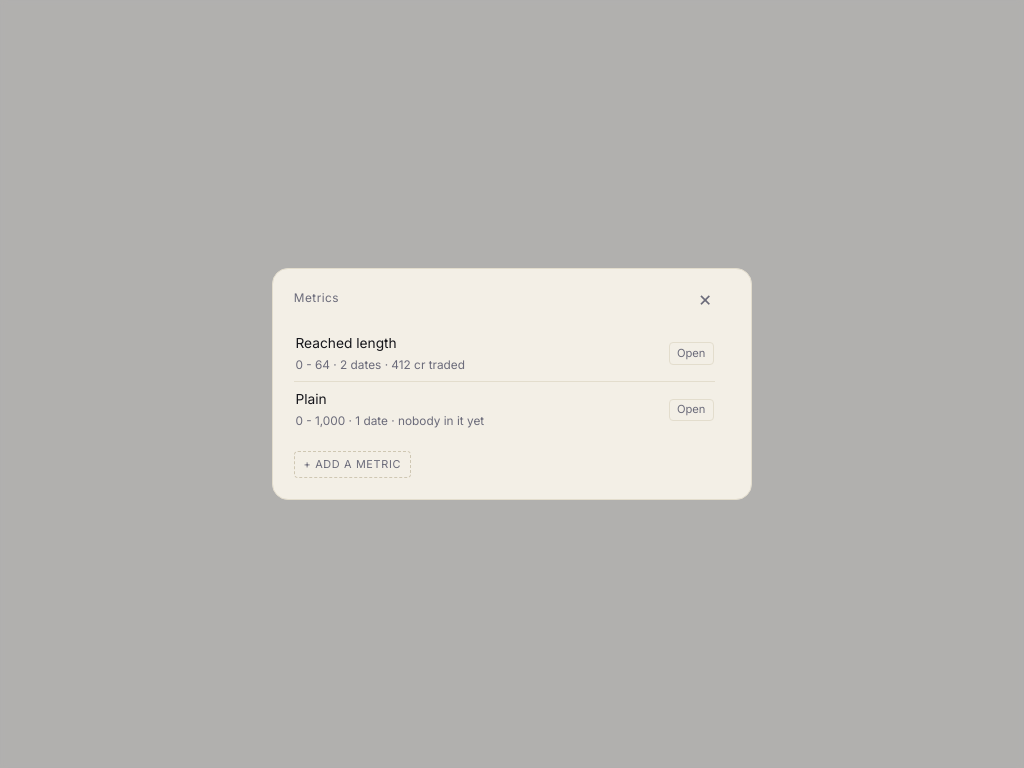
Test case: the until-settled row › says what it is and who settles it, and names no date for its open book
The image size is (1024, 768).
Check: the text "Reached length" is shown, box [295, 335, 397, 351]
Click the button "Open" in the row of "0 - 64 · 2 dates · 412 cr traded" at (691, 354), box [669, 342, 714, 365]
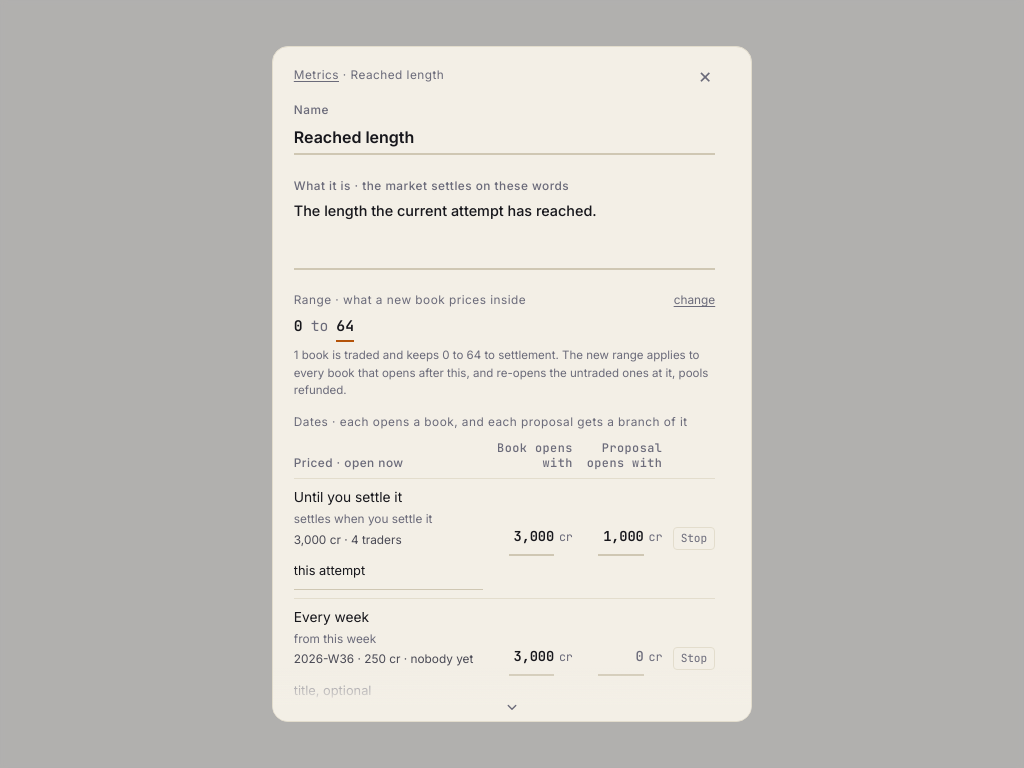
Check: the table with class "metrics-dates-table" is shown, box [294, 441, 715, 718]
Check: the row that starts with "Until you settle it" is shown, box [294, 478, 715, 598]
Check: the row that starts with "Until you settle it" shows "settles when you settle it", box [294, 512, 432, 526]
